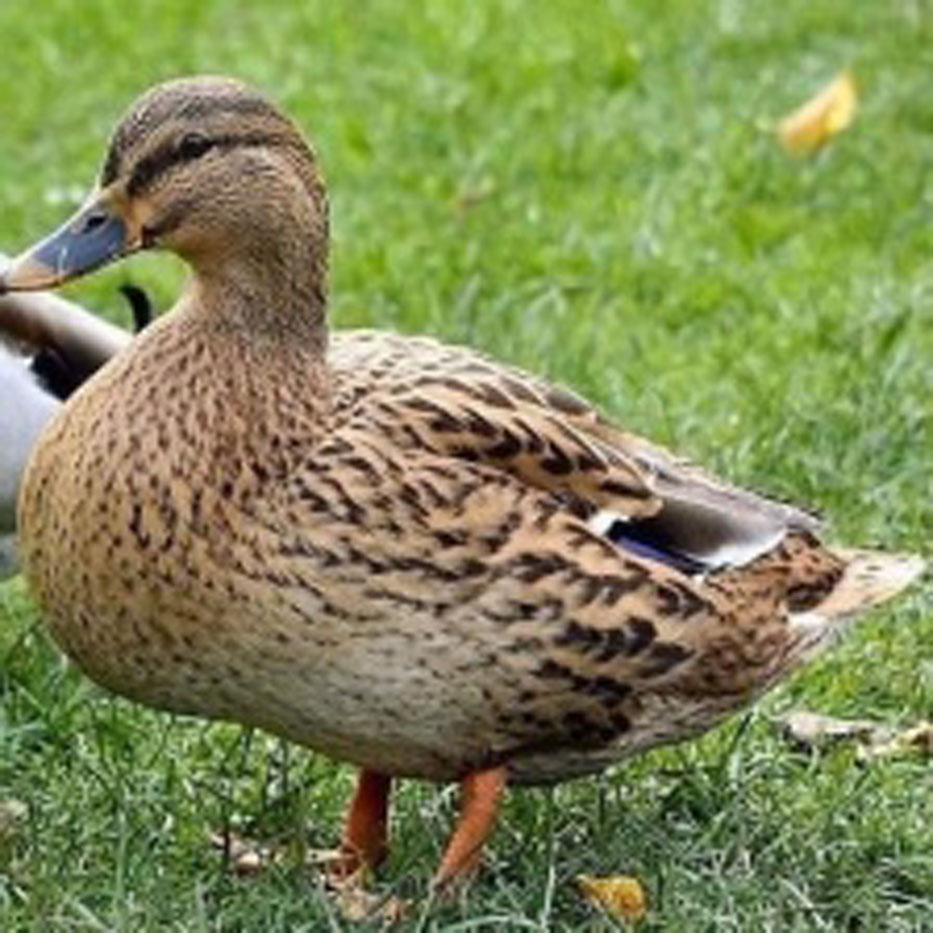Mencari Makan di Lumpur: (1, 194, 157, 339)
